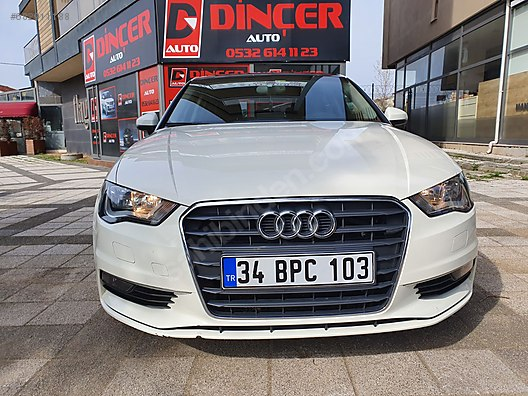audi: (253, 205, 337, 243)
